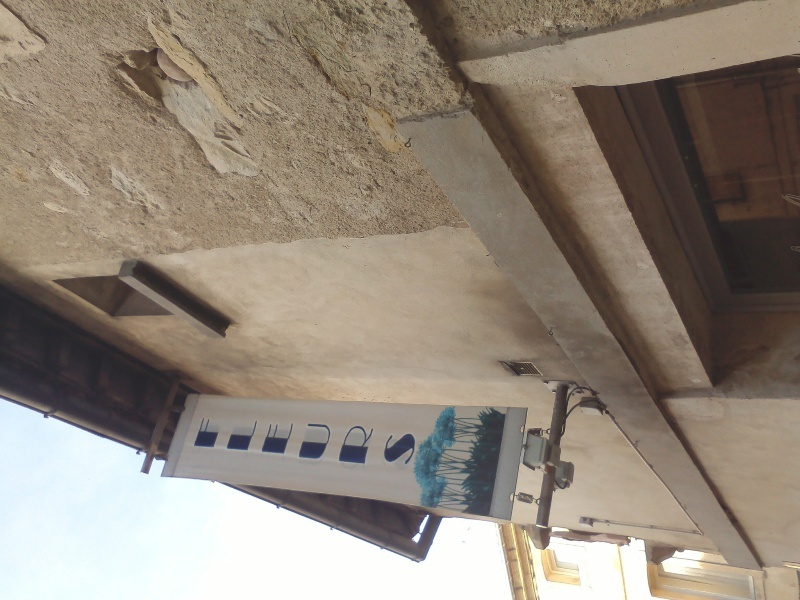text: (209, 416, 224, 472), (225, 416, 240, 472), (241, 416, 256, 472), (257, 416, 272, 472), (273, 416, 288, 472), (289, 416, 304, 472), (305, 416, 320, 472), (321, 416, 336, 472), (337, 416, 352, 472), (353, 416, 368, 472), (369, 416, 384, 472), (385, 416, 400, 472), (401, 416, 416, 472), (202, 416, 208, 472), (417, 416, 419, 472)
